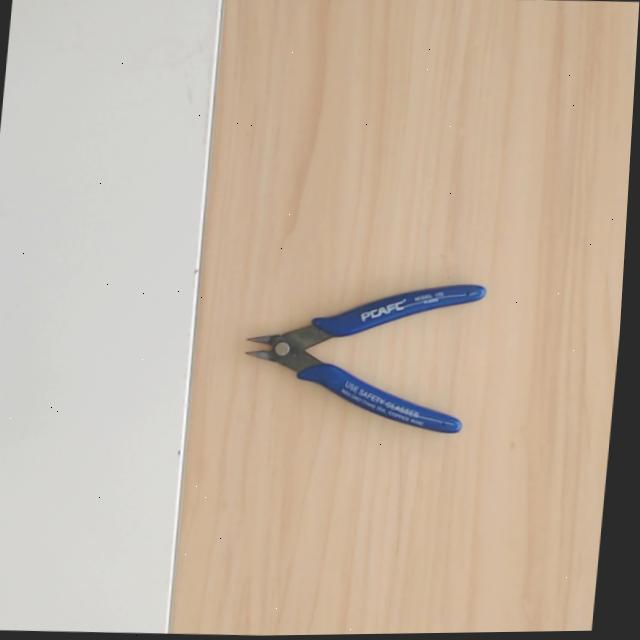Tang-Potong-Biru: (233, 245, 487, 436)
